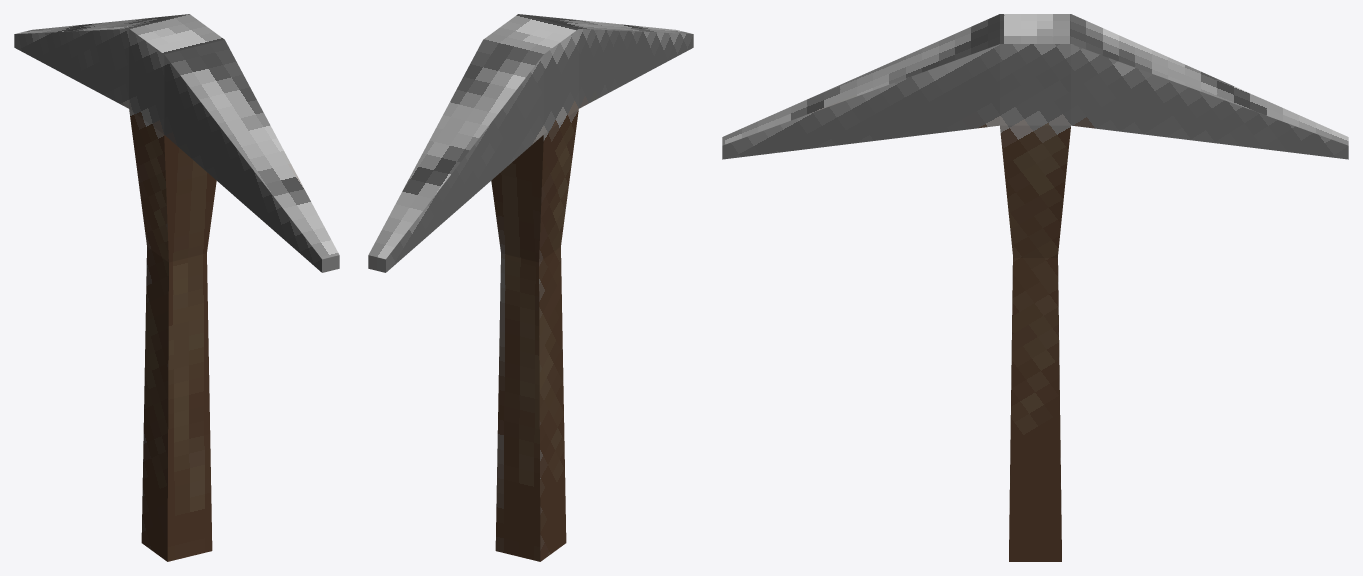
Rendered from MinePick.fbx.
3 views of the same model, side by side, from view 1: azimuth 30°, elevation 25°; view 2: azimuth 150°, elevation 25°; view 3: azimuth 270°, elevation 25° (orthographic).
Parts seen in each view (by area): view 1: MinePick; view 2: MinePick; view 3: MinePick.
Boxes of the visible parts, x1=… form: MinePick: x1=14, y1=14, x2=339, y2=561; MinePick: x1=368, y1=14, x2=693, y2=561; MinePick: x1=722, y1=14, x2=1348, y2=561.
Size of the model in its own units: 0.0549 by 0.443 by 0.4819.
